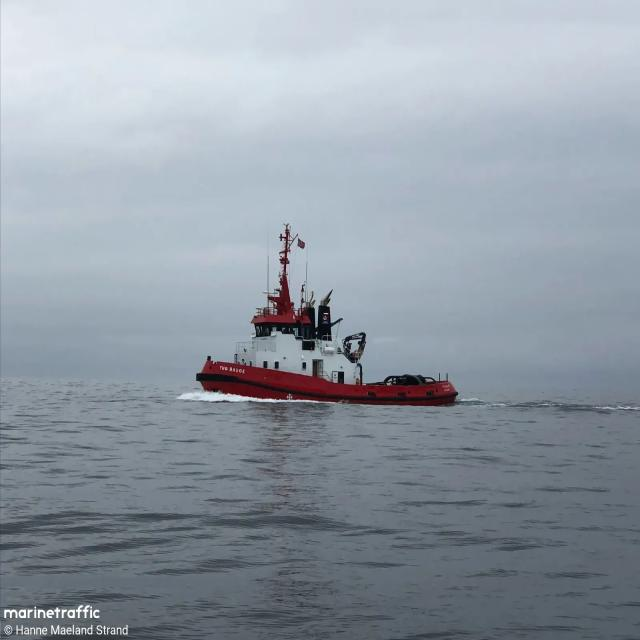Tug: (196, 224, 458, 406)
